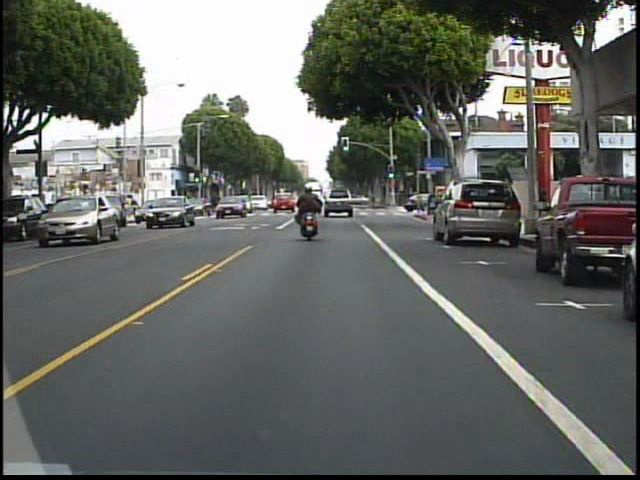person: (293, 182, 327, 241)
